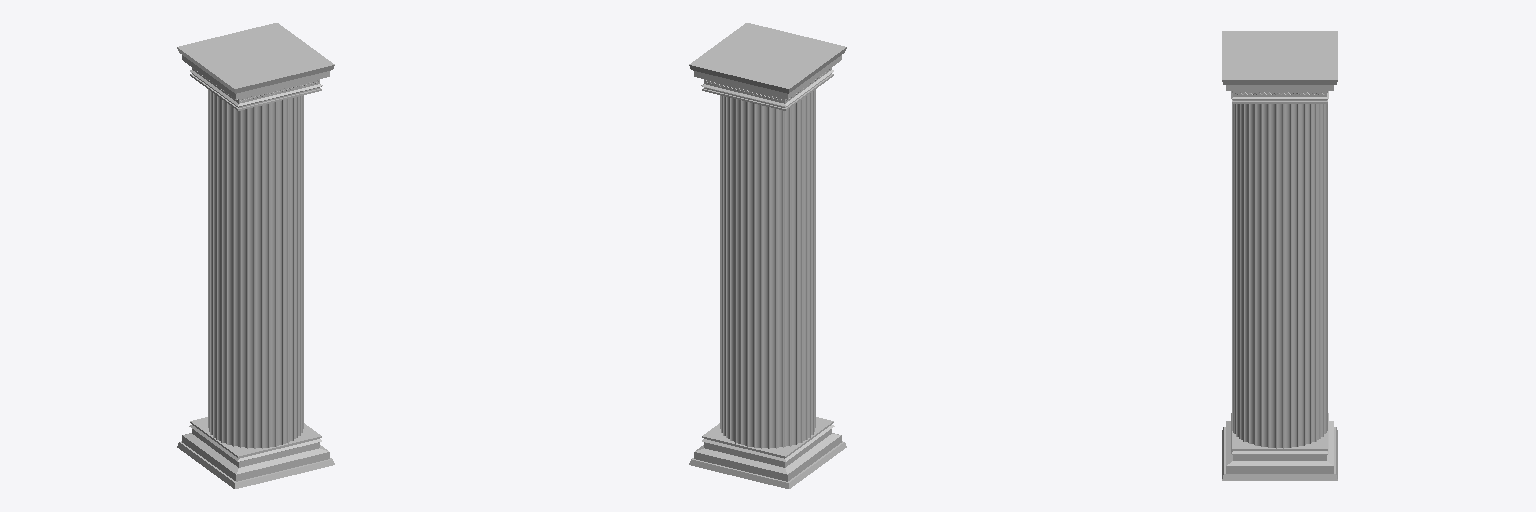
Rendered from Pillar-B.obj.
The picture shows the model from 3 angles: view 1: azimuth 30°, elevation 25°; view 2: azimuth 150°, elevation 25°; view 3: azimuth 270°, elevation 25°; orthographic projection.
Parts seen in each view (by area): view 1: Piller_Cylinder.104; view 2: Piller_Cylinder.104; view 3: Piller_Cylinder.104.
Boxes of the visible parts, x1,y1,x2,y2 form: Piller_Cylinder.104: [177, 23, 334, 488]; Piller_Cylinder.104: [689, 23, 846, 488]; Piller_Cylinder.104: [1222, 31, 1337, 480].
Size of the model in its own units: 2.43 by 9.27 by 2.43.